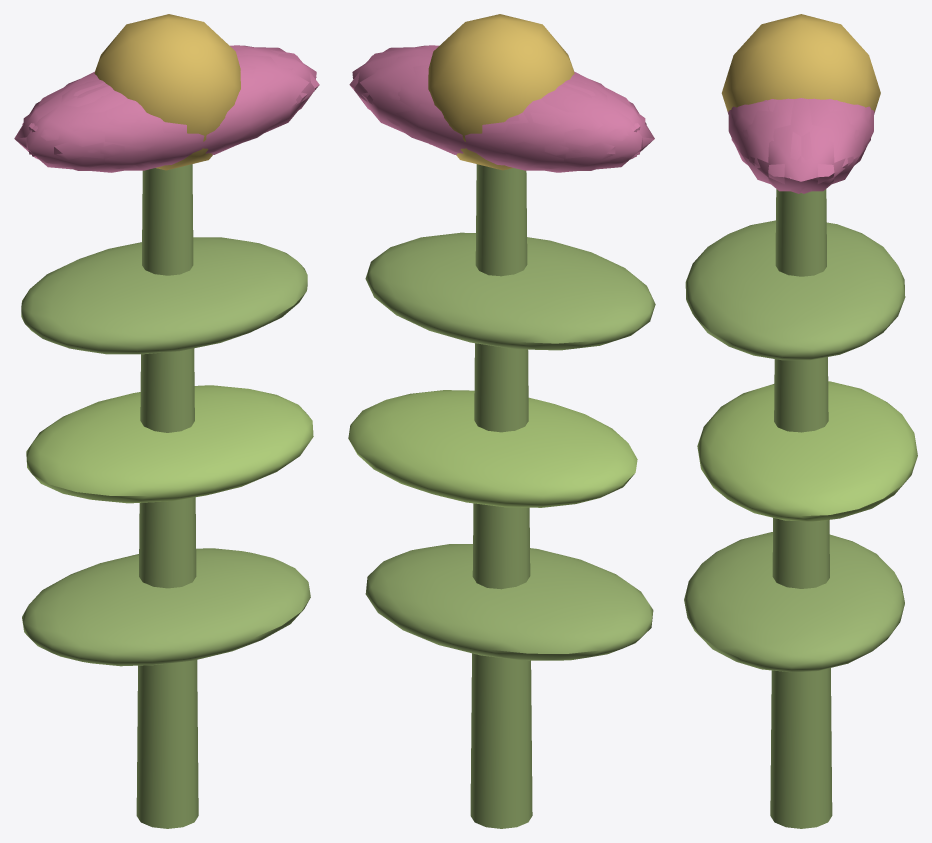
Rendered from thunbergia-erecta.glb.
The picture shows the model from 3 angles, left to right: view 1: azimuth 30°, elevation 25°; view 2: azimuth 150°, elevation 25°; view 3: azimuth 270°, elevation 25°; orthographic projection.
Parts seen in each view (by area): view 1: stem, leaf2, leaf0, leaf1, center, petal6, petal2, petal1, petal5, petal7, petal0; view 2: stem, leaf1, leaf2, leaf0, center, petal3, petal7, petal8, petal4, petal2, petal0; view 3: leaf1, leaf2, stem, leaf0, center, petal0, petal5, petal4, petal1, petal8.
Part boxes in pixels (left/top/right/bottom): stem: left=136, top=164, right=198, bottom=828; leaf2: left=21, top=237, right=307, bottom=354; leaf0: left=22, top=548, right=310, bottom=666; leaf1: left=26, top=385, right=313, bottom=503; center: left=94, top=14, right=240, bottom=170; petal6: left=31, top=85, right=227, bottom=170; petal2: left=23, top=79, right=174, bottom=172; petal1: left=100, top=64, right=302, bottom=168; petal5: left=163, top=54, right=319, bottom=161; petal7: left=14, top=74, right=113, bottom=163; petal0: left=234, top=47, right=316, bottom=126; stem: left=470, top=164, right=532, bottom=828; leaf1: left=348, top=390, right=637, bottom=507; leaf2: left=365, top=232, right=655, bottom=350; leaf0: left=365, top=544, right=653, bottom=660; center: left=428, top=14, right=574, bottom=170; petal3: left=442, top=85, right=637, bottom=170; petal7: left=494, top=79, right=645, bottom=172; petal8: left=366, top=64, right=568, bottom=168; petal4: left=349, top=54, right=505, bottom=161; petal2: left=555, top=74, right=654, bottom=163; petal0: left=352, top=47, right=434, bottom=144; leaf1: left=697, top=381, right=917, bottom=521; leaf2: left=685, top=220, right=905, bottom=360; stem: left=770, top=189, right=832, bottom=828; leaf0: left=684, top=532, right=904, bottom=672; center: left=721, top=14, right=880, bottom=111; petal0: left=742, top=98, right=859, bottom=191; petal5: left=731, top=98, right=813, bottom=193; petal4: left=789, top=98, right=870, bottom=193; petal1: left=728, top=99, right=777, bottom=165; petal8: left=824, top=99, right=873, bottom=165.
Size of the model in its own units: 0.1541 by 0.3966 by 0.1058.
